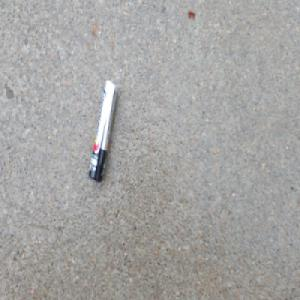Battery: (87, 78, 118, 182)
